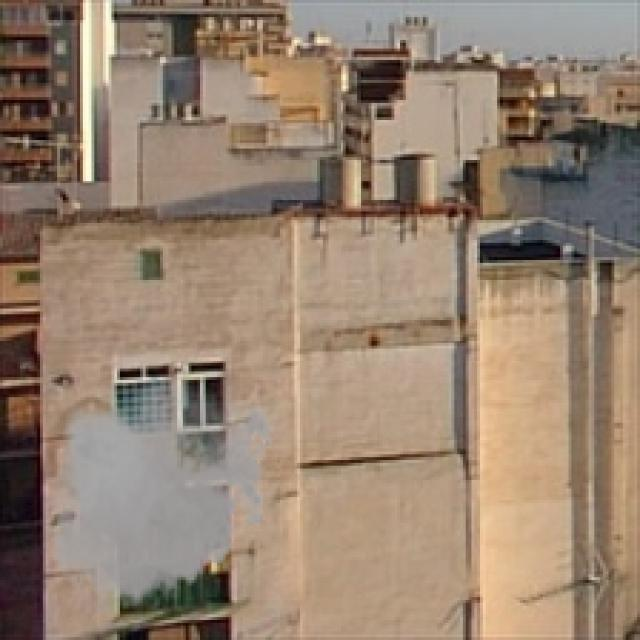Smoke: (43, 366, 280, 618)
